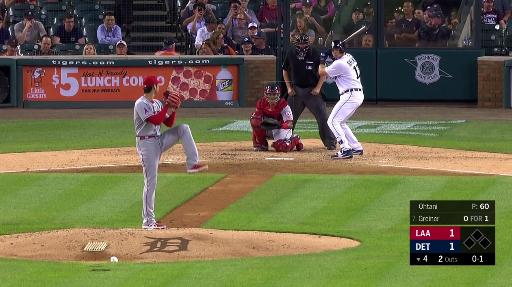pitcher: (133, 74, 210, 230)
